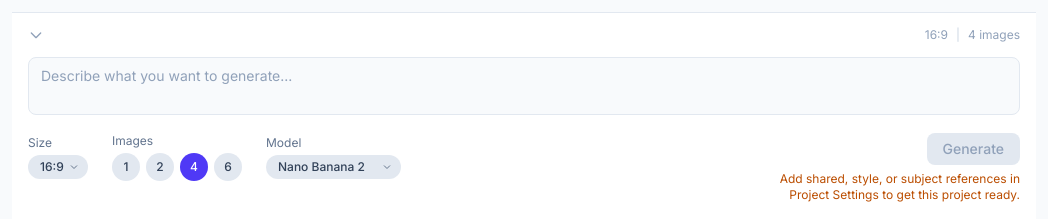
Test: Drawer integration › Drawer toggle behavior › hides generation form when drawer is collapsed
Click the button with test id "drawer-collapsed-bar": click(994, 34) [12, 13, 1036, 57]
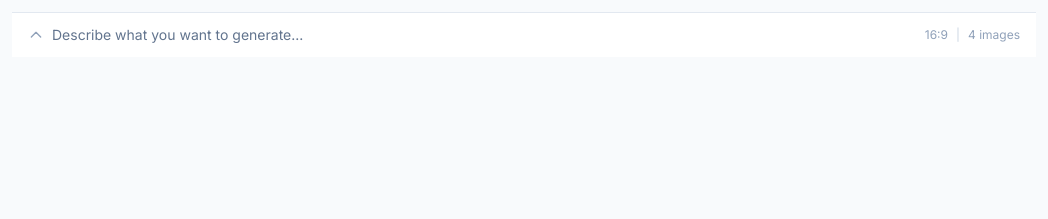
Result: the element with test id "generation-form" is gone
